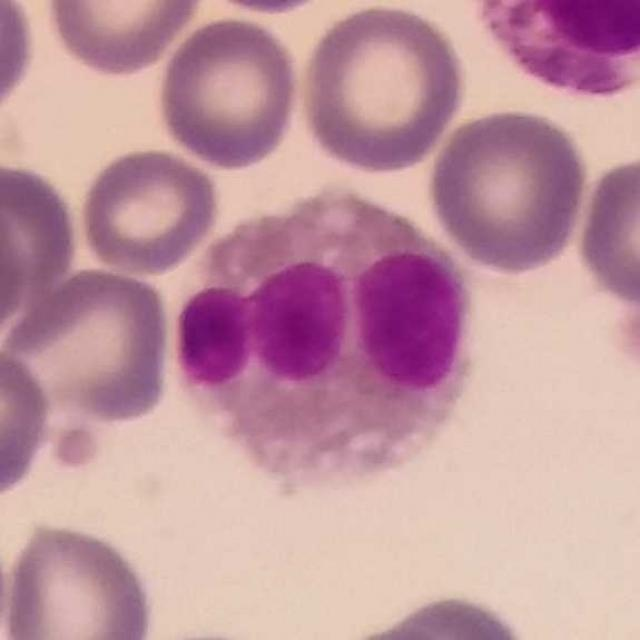eosino: (172, 180, 482, 499)
